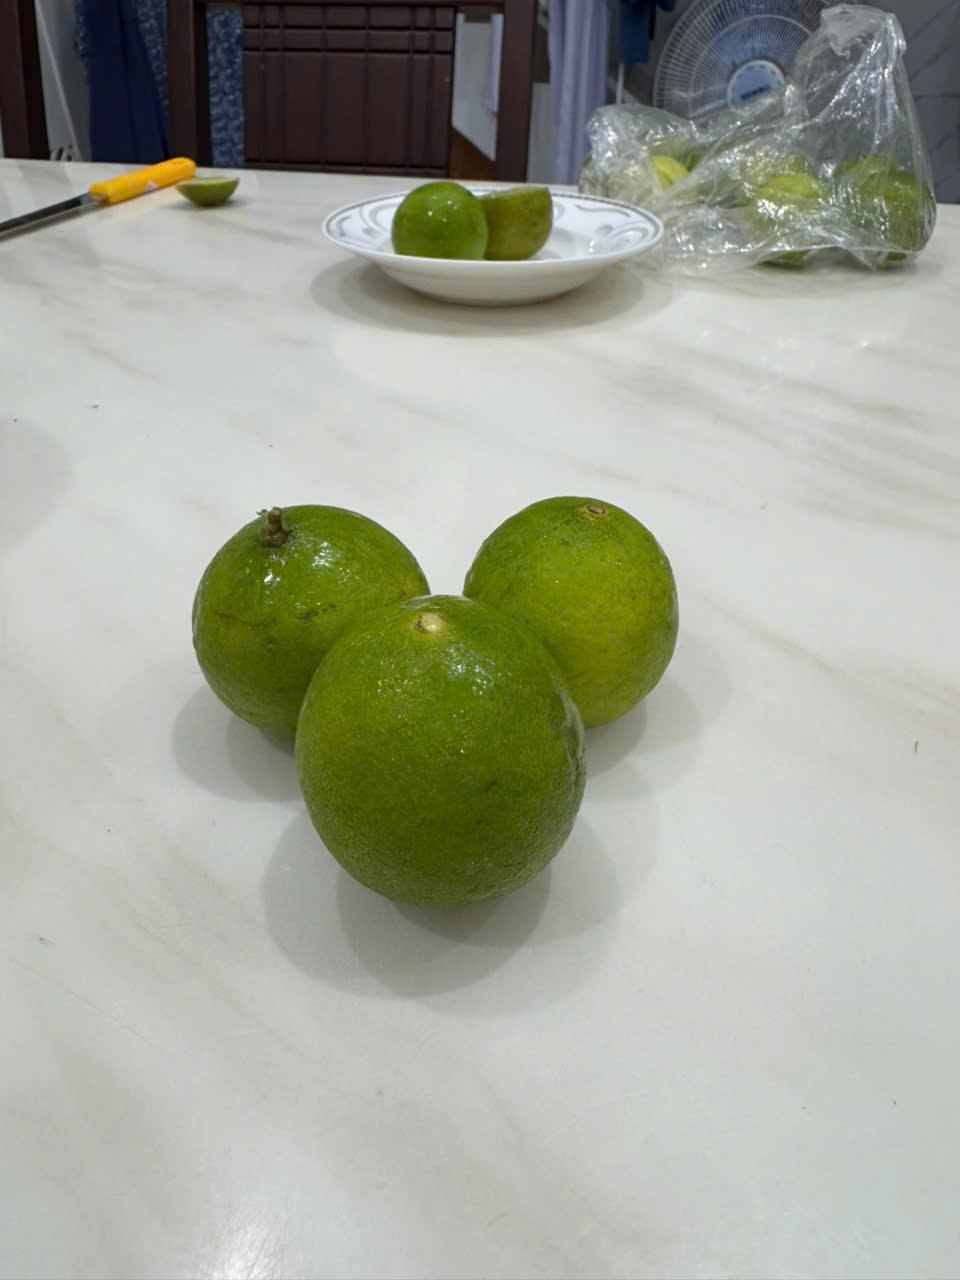lime: (290, 584, 581, 918), (458, 478, 691, 739), (168, 488, 421, 720)
